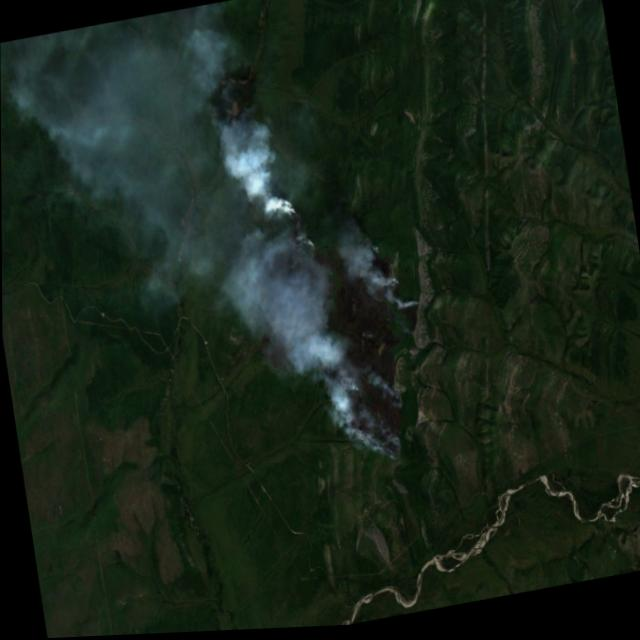fire: (232, 174, 443, 490)
